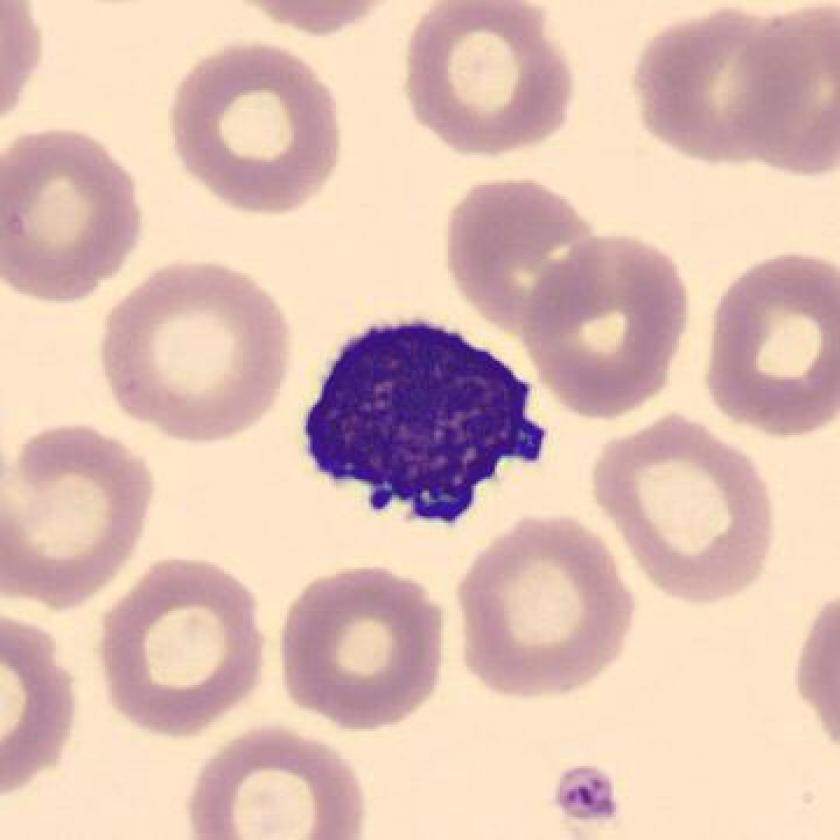lymphocyte: (293, 309, 554, 542)
